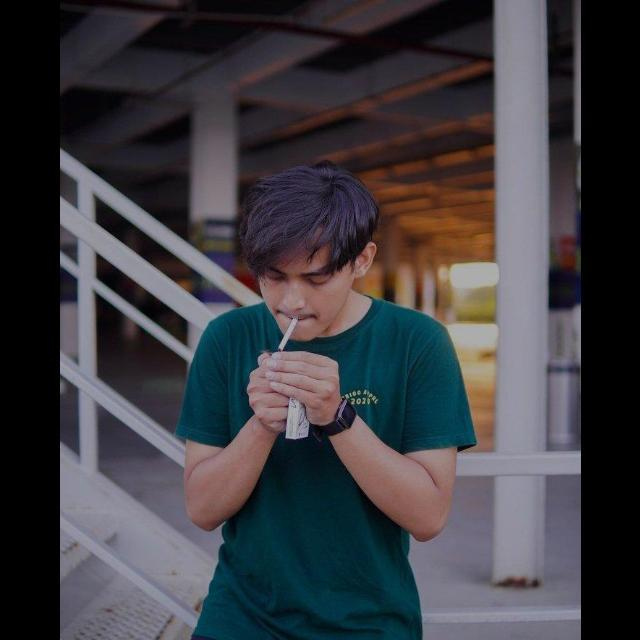rokok: (274, 315, 306, 353)
